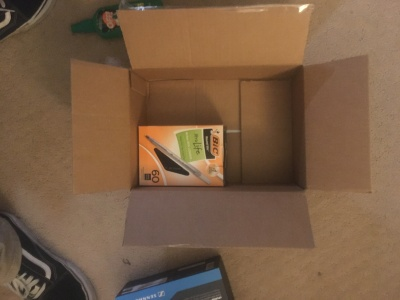innerbox: (128, 67, 306, 192)
outerbox: (74, 8, 370, 245)
product: (137, 124, 222, 185)
